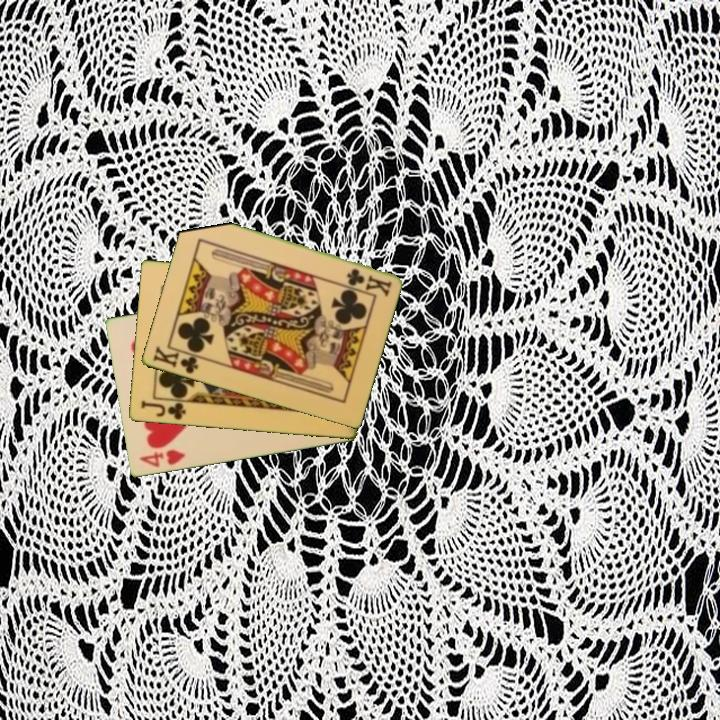4h: (136, 446, 188, 471)
Jc: (137, 397, 188, 423)
Kc: (149, 343, 206, 377), (343, 265, 394, 297)
